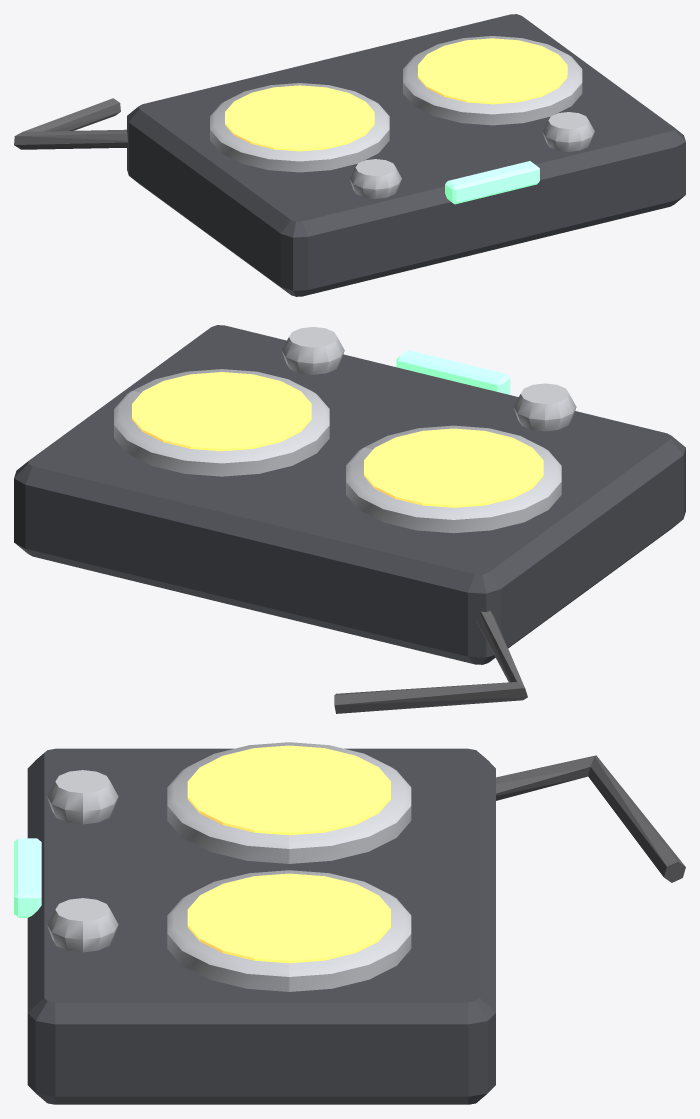
File: cyberpunk-apartment-and-neon-block-counter-hot-plate-3e63f246__37813.glb
3 views of the same model, one above another, from view 1: azimuth 30°, elevation 25°; view 2: azimuth 150°, elevation 25°; view 3: azimuth 270°, elevation 25° (orthographic). The views are drawn at different scales.
Visible parts, largest first — view 1: counter-hot-plate; view 2: counter-hot-plate; view 3: counter-hot-plate.
Boxes of the visible parts, x1,y1,x2,y2 form: counter-hot-plate: [14, 14, 685, 296]; counter-hot-plate: [14, 325, 685, 713]; counter-hot-plate: [14, 742, 685, 1104].
Bounding box in the file's own units: 0.5383 × 0.106 × 0.488.
